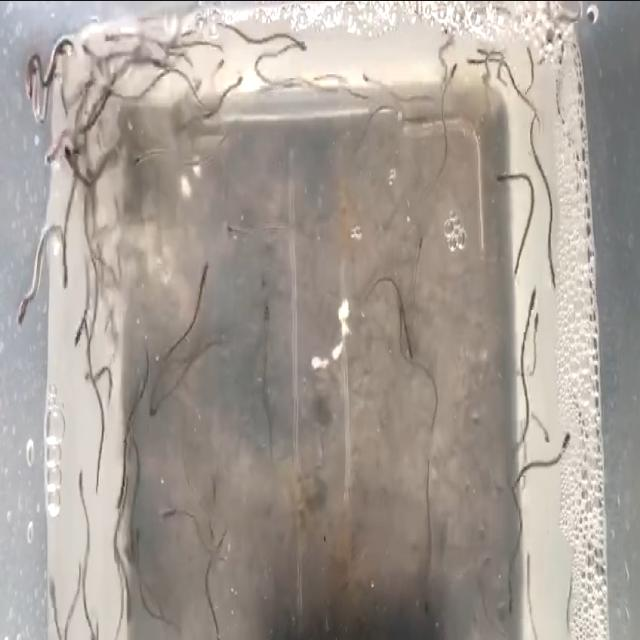inactive_glass_eel: (16, 286, 34, 326), (222, 213, 244, 243), (43, 134, 61, 170), (194, 263, 210, 303), (46, 578, 60, 620), (504, 582, 518, 624), (72, 310, 86, 351), (410, 230, 423, 272), (22, 61, 34, 105), (538, 416, 558, 442), (292, 35, 310, 62), (447, 60, 459, 100), (64, 146, 80, 174), (60, 254, 70, 296), (557, 426, 570, 458), (525, 284, 537, 316), (530, 304, 542, 336), (104, 28, 122, 48), (418, 584, 428, 620), (496, 165, 514, 185), (136, 141, 149, 167), (156, 506, 176, 522), (476, 44, 492, 64), (232, 68, 245, 92), (211, 53, 225, 73), (76, 462, 85, 493), (147, 407, 162, 425), (395, 296, 404, 326), (79, 46, 99, 59), (364, 66, 374, 92), (550, 256, 558, 288), (468, 54, 478, 76), (408, 342, 416, 368)
